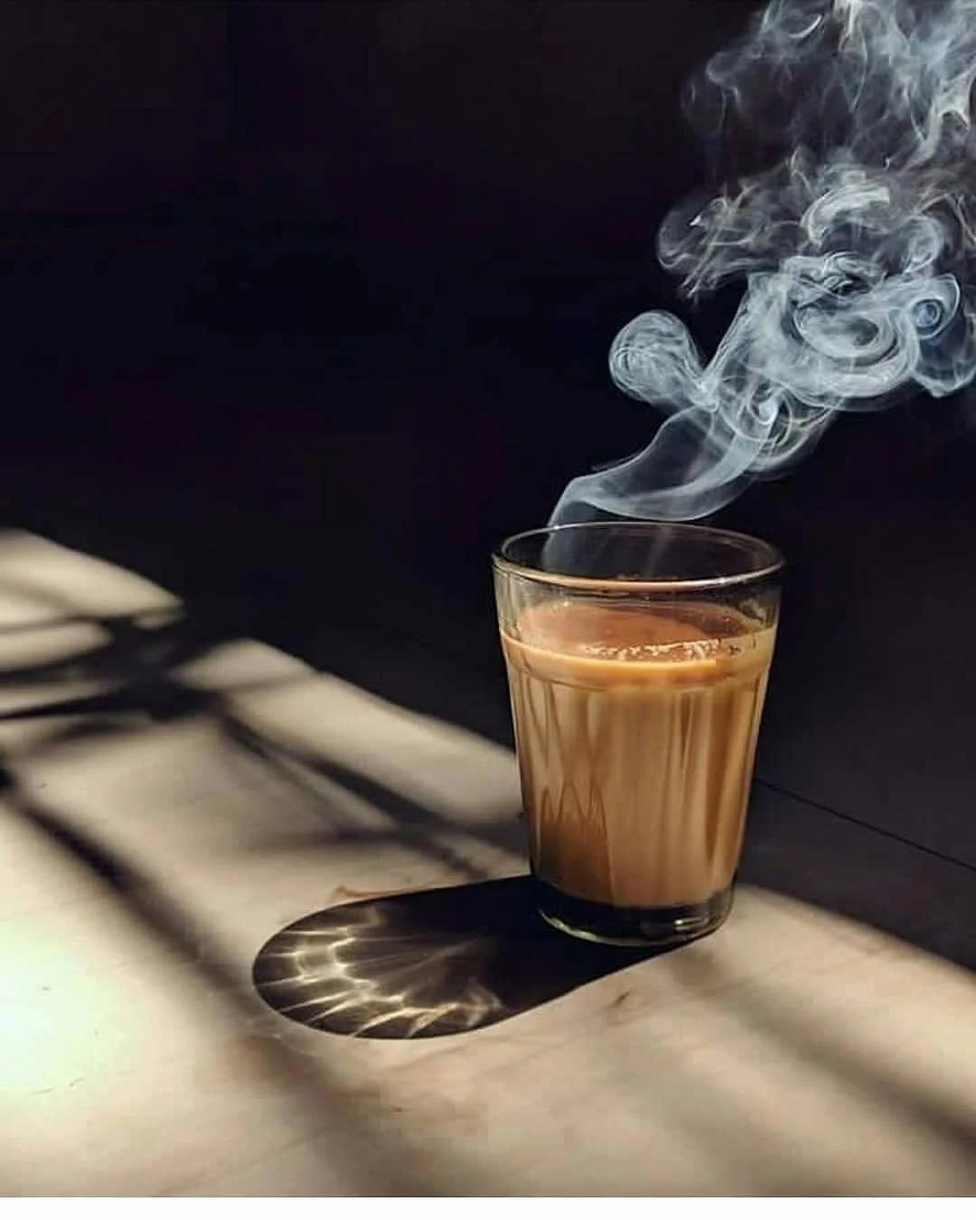Chai: (503, 599, 778, 915)
